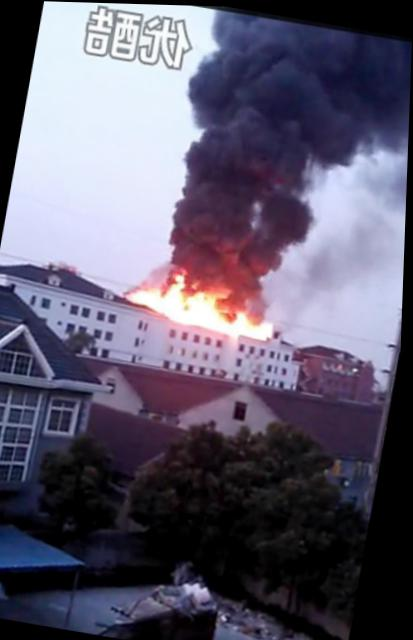fire: (185, 289, 236, 328), (165, 270, 192, 321), (128, 283, 168, 310), (233, 313, 277, 337)
